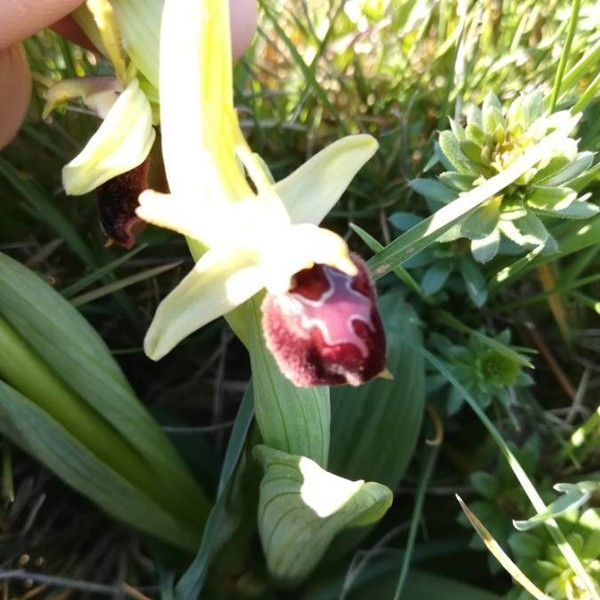obstacle: (100, 34, 569, 548)
